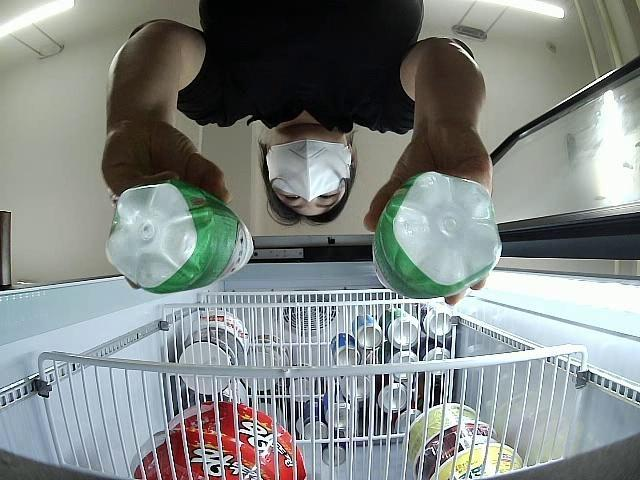18_trevi: (372, 170, 502, 301), (102, 183, 252, 296)
